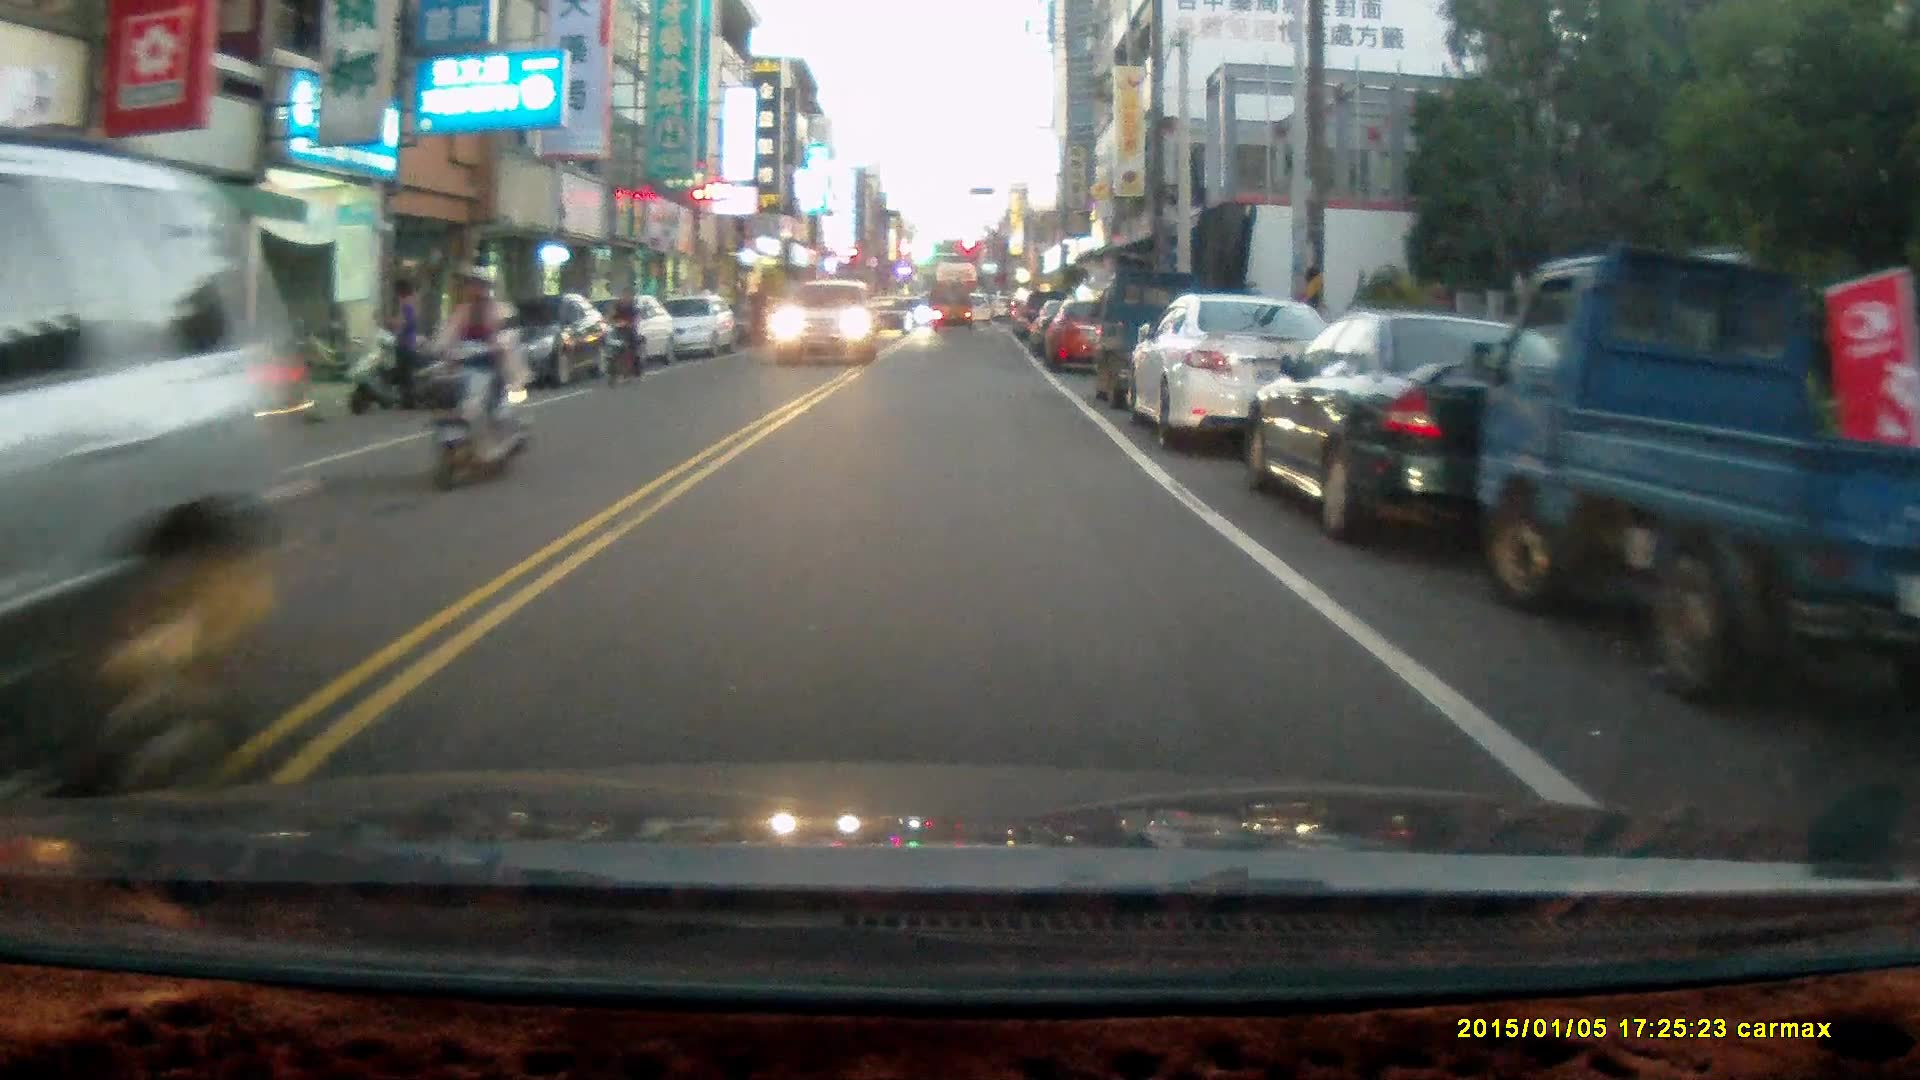pedestrian: (373, 278, 423, 414), (747, 281, 770, 344)
rider: (424, 262, 530, 493), (602, 286, 645, 386)
vehicle: (1478, 247, 1916, 718), (1247, 315, 1664, 555), (1130, 292, 1340, 453), (459, 296, 613, 385), (770, 279, 880, 364), (1044, 299, 1132, 376), (657, 295, 742, 363), (863, 296, 919, 342), (931, 282, 974, 334)
